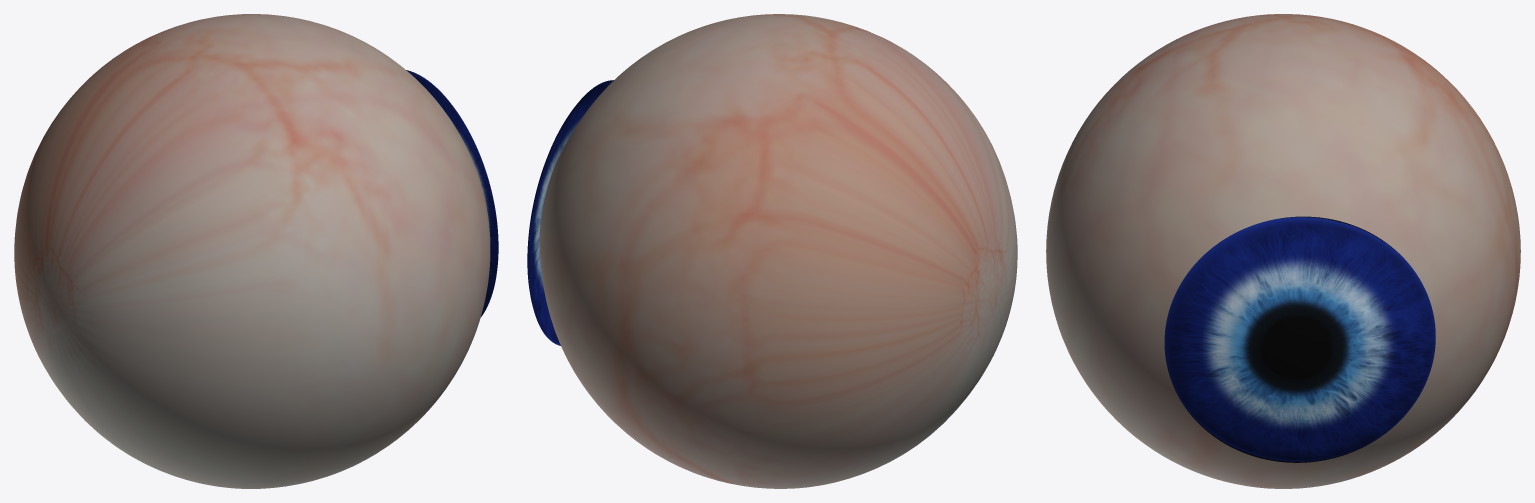
File: oko.glb
3 views of the same model, side by side, from view 1: azimuth 30°, elevation 25°; view 2: azimuth 150°, elevation 25°; view 3: azimuth 270°, elevation 25° (orthographic).
Parts seen in each view (by area): view 1: eyeball_1_eye_1, eyeball_1.003_eye_1.003; view 2: eyeball_1_eye_1, eyeball_1.003_eye_1.003; view 3: eyeball_1_eye_1, eyeball_1.003_eye_1.003.
Part boxes in pixels (x1,y1,x2,y2): eyeball_1_eye_1: (14,14,490,488); eyeball_1.003_eye_1.003: (406,70,498,316); eyeball_1_eye_1: (539,14,1017,488); eyeball_1.003_eye_1.003: (527,80,613,345); eyeball_1_eye_1: (1046,14,1520,488); eyeball_1.003_eye_1.003: (1164,216,1435,462).
Size of the model in its own units: 3.88 by 3.86 by 3.86.
4 materials, 2 textured.
